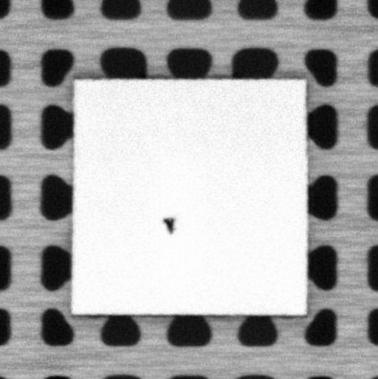DIE_INK: (161, 216, 176, 234)
